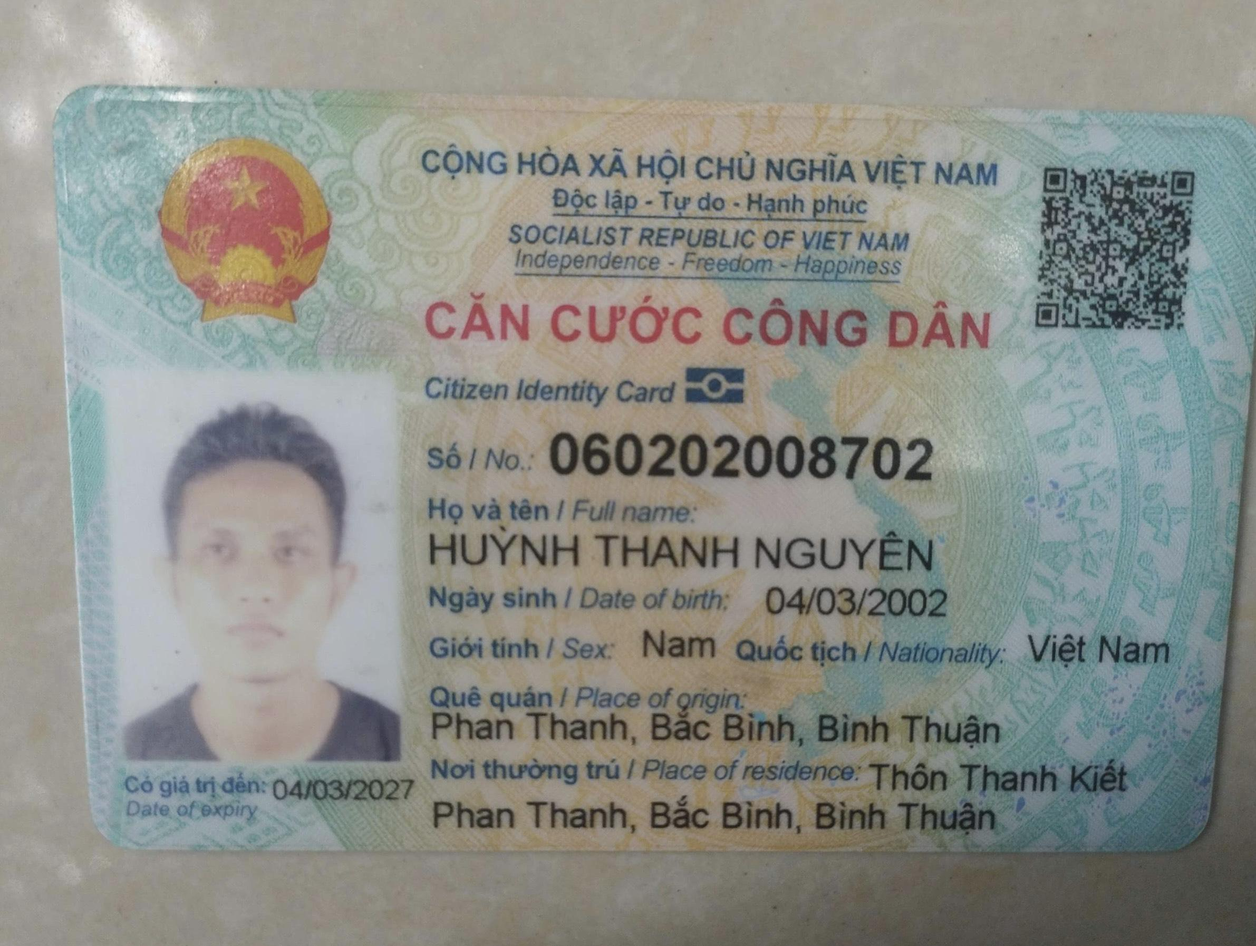ID: (543, 420, 951, 489)
birth: (754, 575, 955, 624)
name: (422, 522, 951, 578)
place: (424, 709, 1024, 755)
residence: (429, 788, 1004, 846), (865, 756, 1139, 804)
